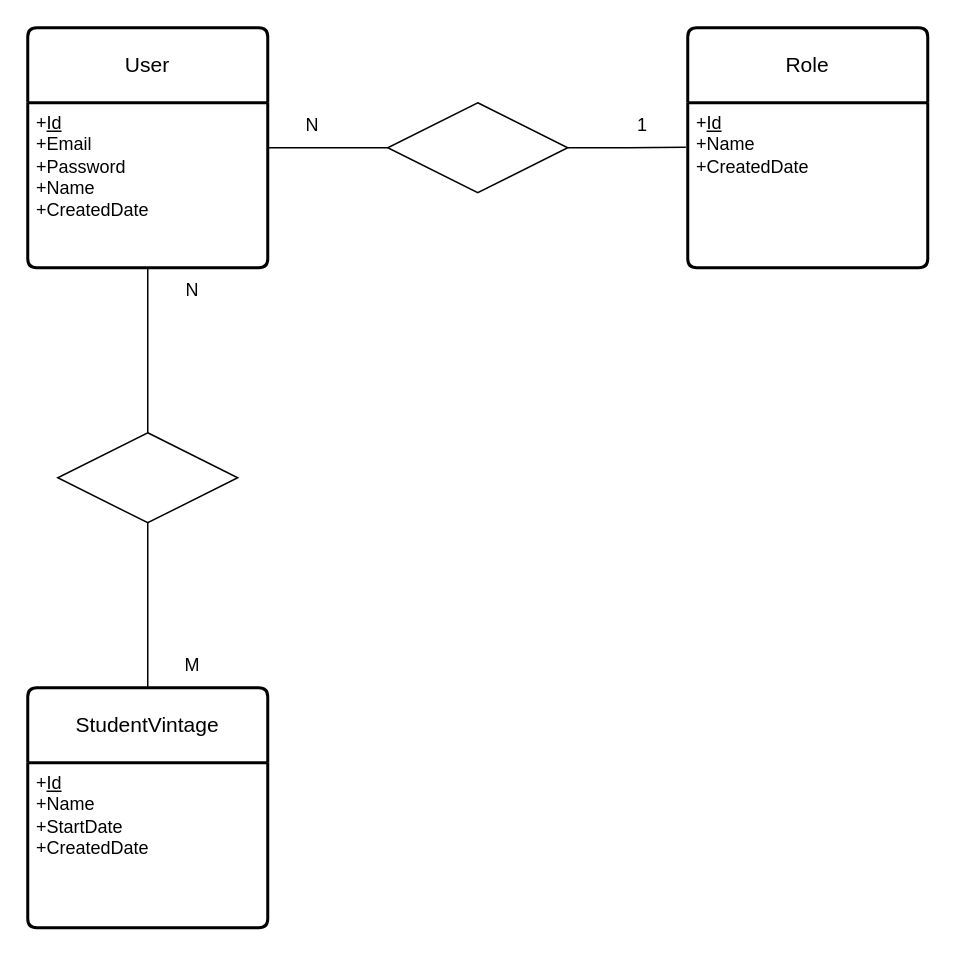
The diagram is 954 pixels wide and 954 high, and some of its shapes have lost their labels. Here are the shapes that lost their labels. From the top down, the centre of each, then its label:
point (477, 147): owns
point (147, 477): assigned
